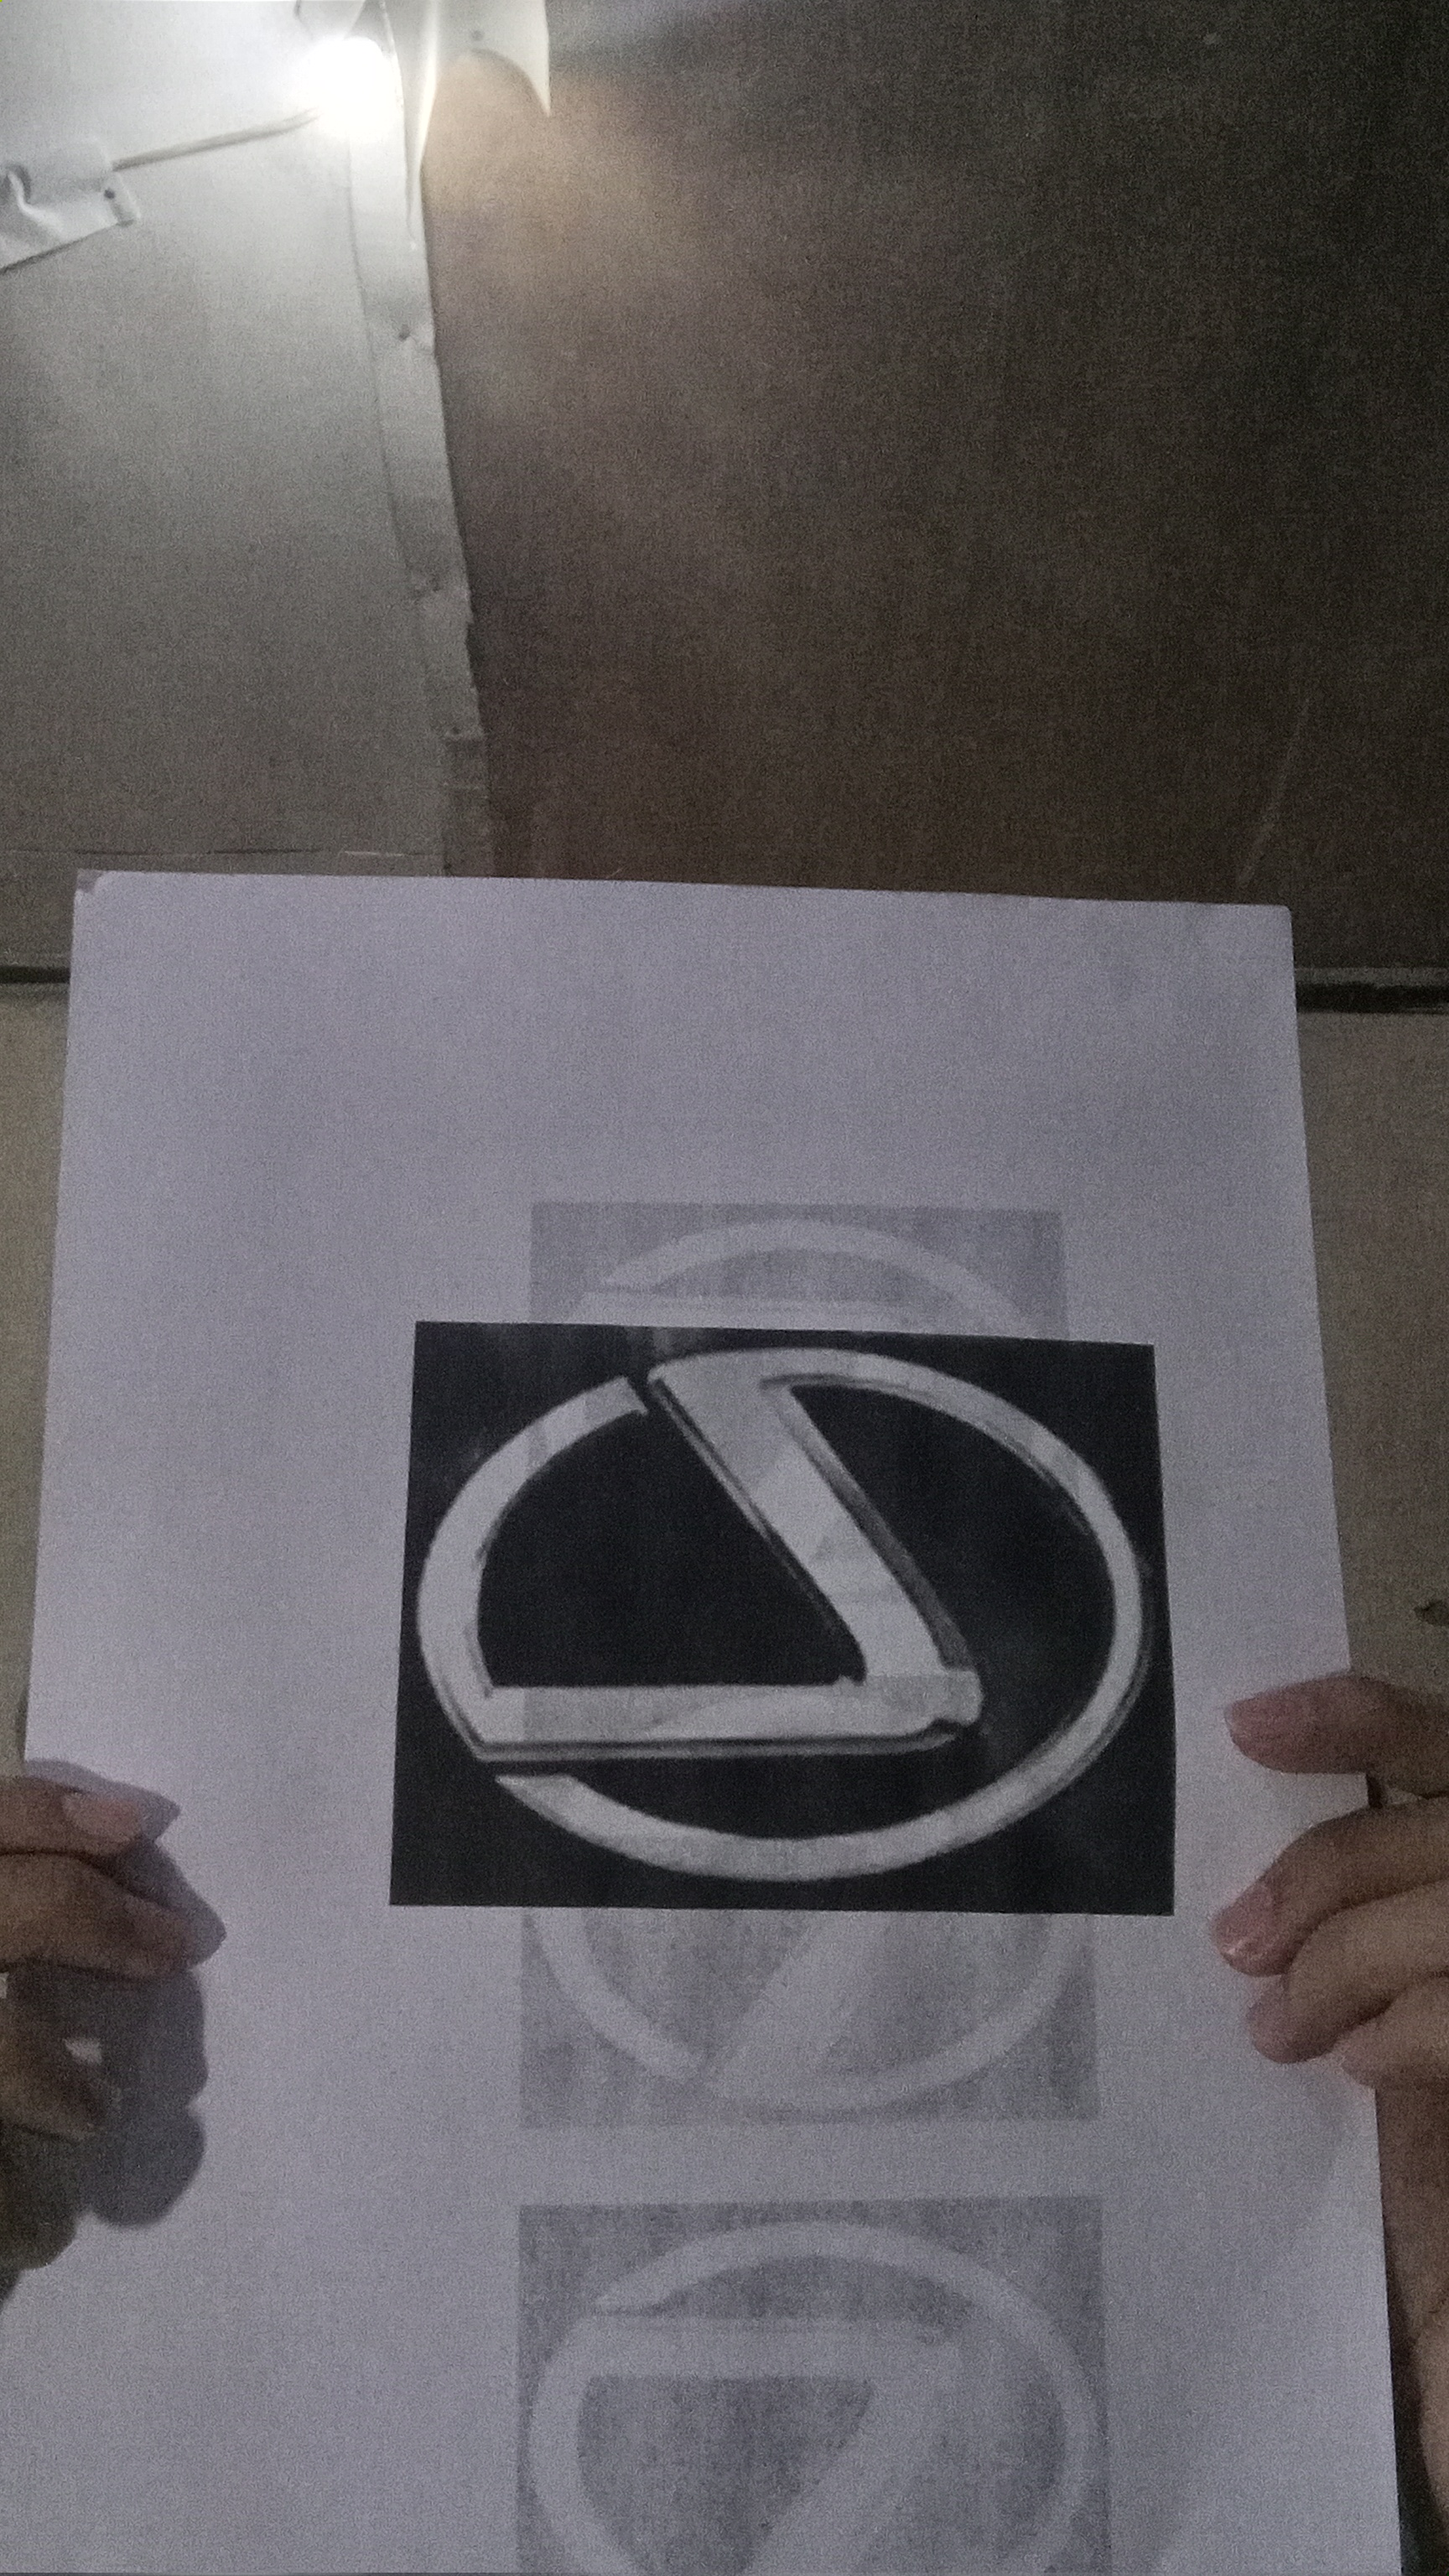Lexus: (407, 1322, 1166, 1913)
